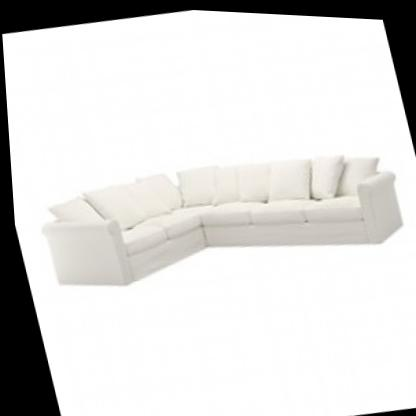Sofa: (6, 99, 416, 326)
